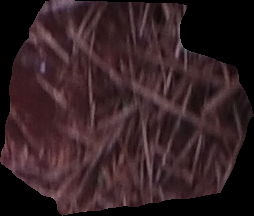soil: (1, 1, 254, 215)
